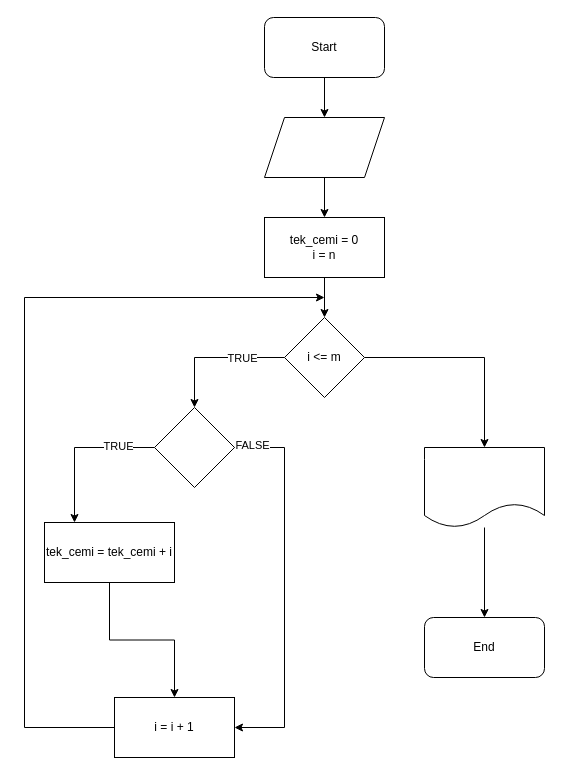
This 562x775 diagram has some shape labels left out. Here are the shapes that lost their labels. From the top down, the centre of each, then its label:
point 324,147: n, m
point 194,447: i % 2 != 0
point 484,487: tek_cemi
